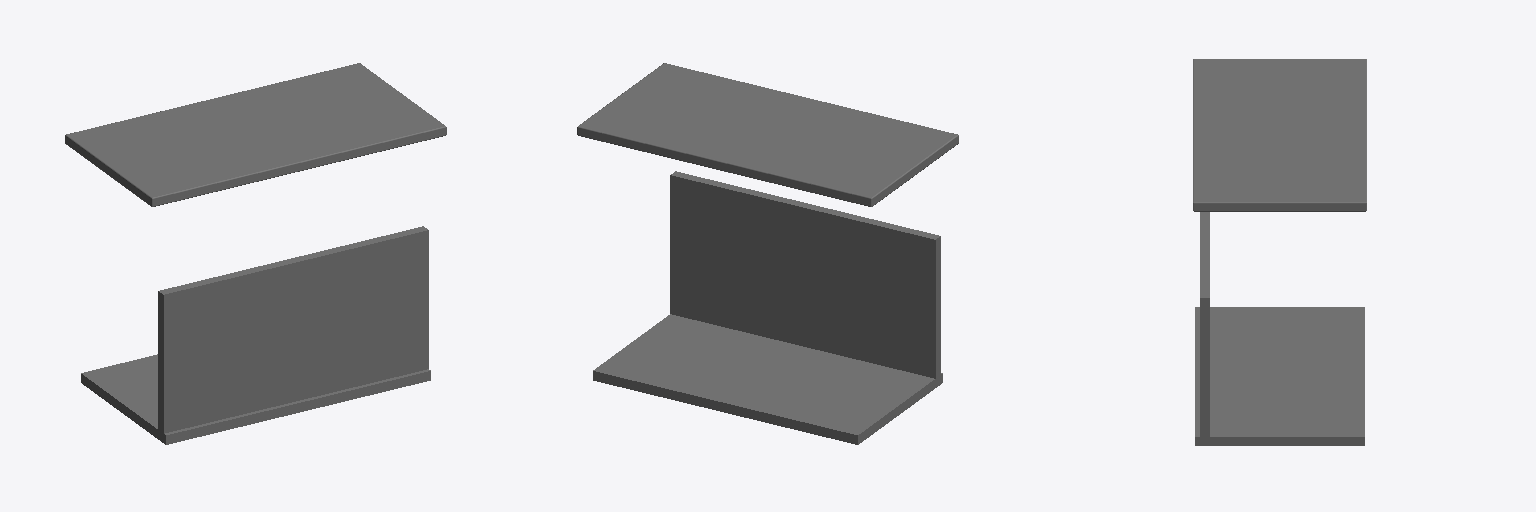
Rendered from drewno.obj.
3 views of the same model, side by side, from view 1: azimuth 30°, elevation 25°; view 2: azimuth 150°, elevation 25°; view 3: azimuth 270°, elevation 25° (orthographic).
Parts seen in each view (by area): view 1: drewno_mesh1; view 2: drewno_mesh1; view 3: drewno_mesh1.
Boxes of the visible parts, <box> form: drewno_mesh1: <box>65,63,446,444</box>; drewno_mesh1: <box>577,63,958,444</box>; drewno_mesh1: <box>1193,59,1366,445</box>.
Bounding box in the file's own units: 80 × 65.1 × 41.01.